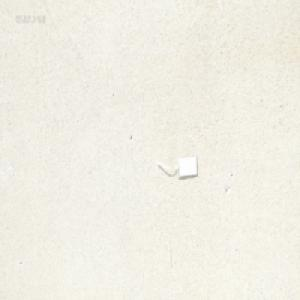LuggageTag: (156, 153, 198, 180)
